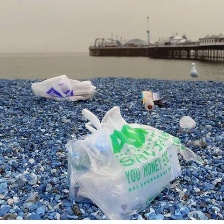bottle: (143, 96, 157, 111)
glass: (177, 111, 200, 131)
plastic_bag: (62, 100, 200, 221), (24, 72, 100, 104)
